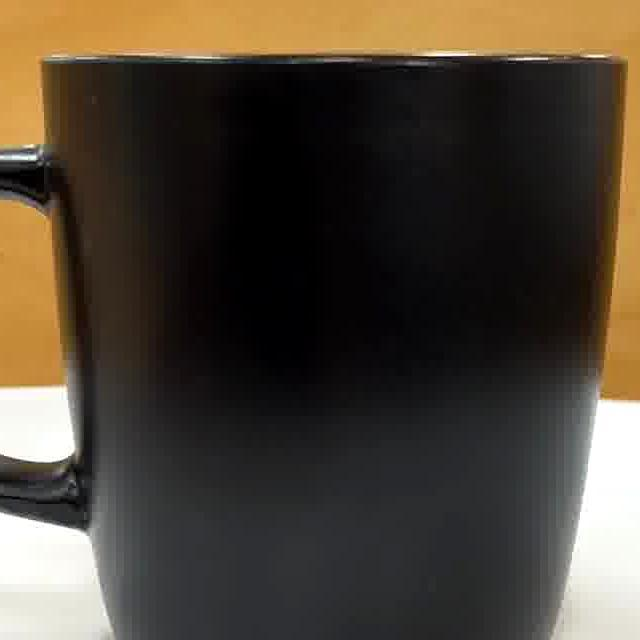cup: (0, 55, 622, 640)
